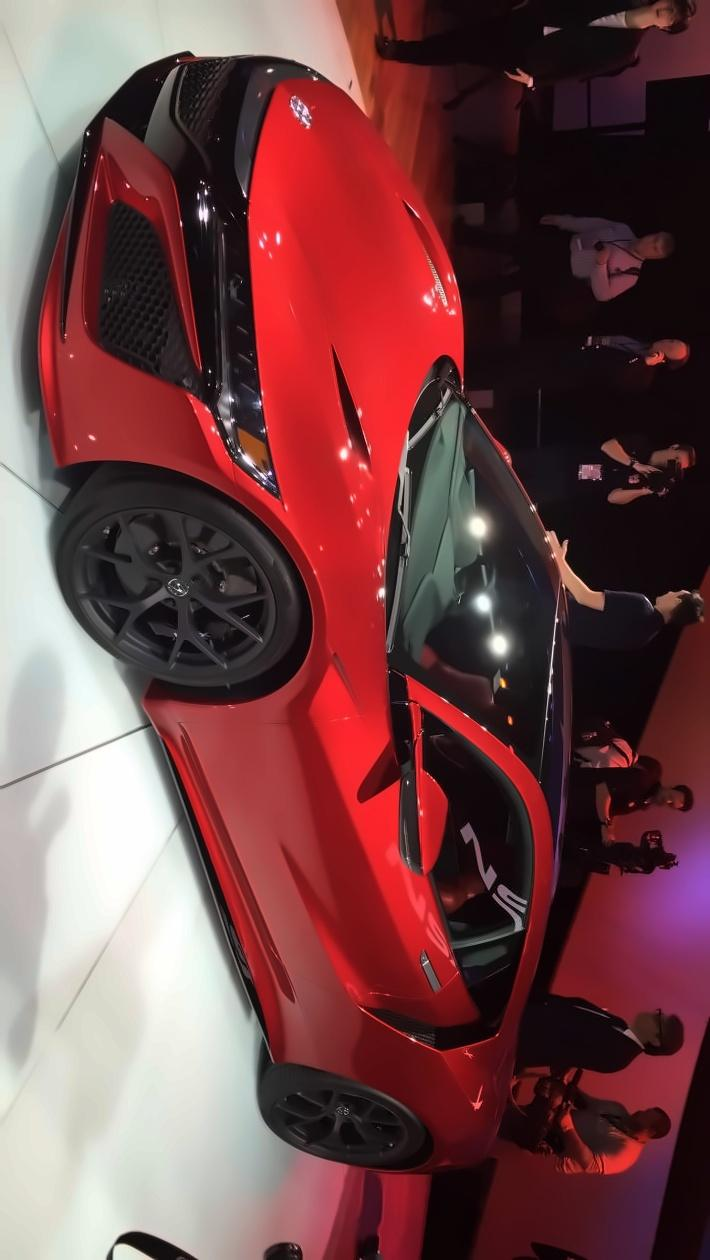Car hood: (243, 73, 478, 618)
Fender - -F-L-: (164, 507, 425, 724)
Fender - -R-L-: (289, 1062, 487, 1163)
Front bumper: (33, 43, 231, 509)
Headlight - -L-: (194, 200, 290, 504)
Passenger-s door - -F-L-: (177, 726, 556, 1005)
Side bumper - -L-: (137, 663, 316, 1074)
Side mirror - -L-: (386, 746, 460, 890)
